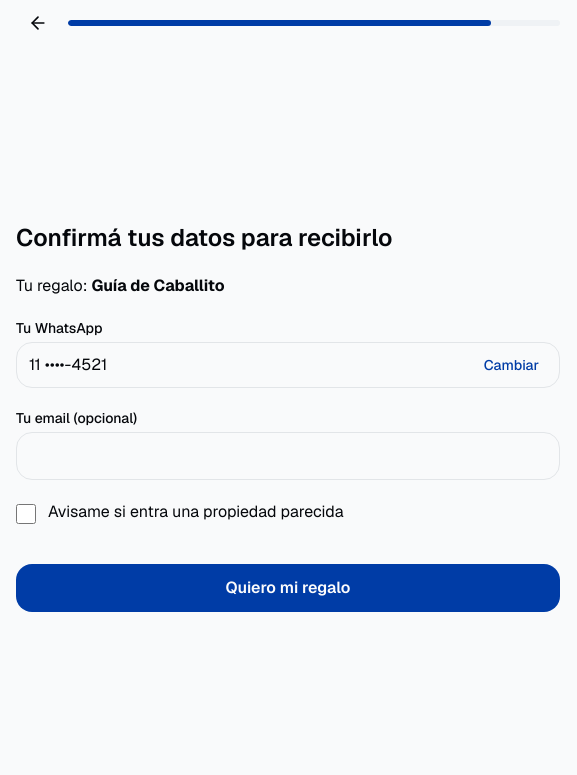
EncuestaVisita (criterios 20, 21, 22) › si el servidor dice que falta una respuesta, vuelve a esa pregunta
Click the button "Quiero mi regalo": (288, 588) [16,564,560,612]
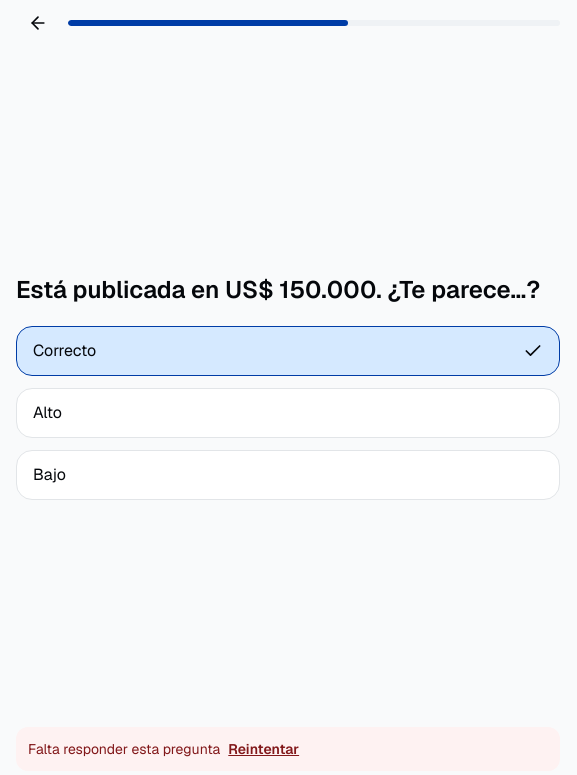
Expected: the heading "Está publicada en US$ 150.000. ¿Te parece…?" is shown, [16,272,560,306]
Expected: the message shows "Falta responder esta pregunta", [28,740,220,758]
